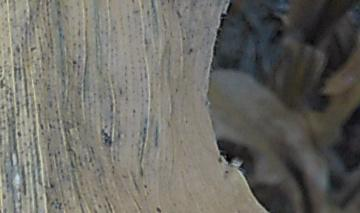tarspot: (12, 65, 22, 82), (50, 197, 63, 210), (153, 124, 160, 147), (102, 130, 112, 146), (1, 75, 9, 91), (45, 98, 55, 110), (175, 9, 184, 20), (142, 35, 149, 47), (57, 31, 66, 40), (138, 165, 144, 178), (108, 102, 115, 113), (69, 158, 76, 169), (38, 120, 45, 130), (142, 125, 149, 135), (46, 121, 53, 131), (36, 102, 43, 112), (24, 159, 31, 169), (154, 206, 163, 213), (29, 45, 38, 52), (95, 201, 102, 210), (130, 8, 140, 14), (118, 86, 124, 96), (76, 26, 81, 38), (110, 164, 115, 176), (16, 130, 23, 138), (186, 47, 193, 55), (217, 155, 223, 164), (1, 192, 7, 201), (110, 24, 116, 33), (45, 7, 50, 17), (223, 168, 230, 175), (48, 182, 55, 189), (55, 9, 62, 16), (36, 72, 43, 79), (39, 130, 46, 137), (14, 98, 21, 105), (142, 182, 148, 190), (71, 58, 77, 66), (15, 46, 21, 54), (149, 1, 155, 9), (174, 86, 179, 95), (76, 41, 82, 48), (183, 117, 189, 124), (103, 16, 110, 22), (45, 86, 51, 93), (36, 35, 43, 41), (131, 107, 137, 113), (146, 8, 150, 17), (8, 90, 14, 96), (19, 35, 25, 41), (83, 6, 89, 12), (8, 16, 14, 22), (34, 5, 40, 11), (45, 20, 51, 26), (181, 35, 186, 42), (3, 206, 8, 213), (71, 41, 76, 48), (47, 151, 52, 158), (41, 15, 46, 22), (1, 64, 4, 75), (104, 41, 108, 49), (44, 1, 49, 7), (56, 150, 61, 155), (130, 1, 135, 4), (166, 1, 170, 4), (1, 207, 2, 213)
